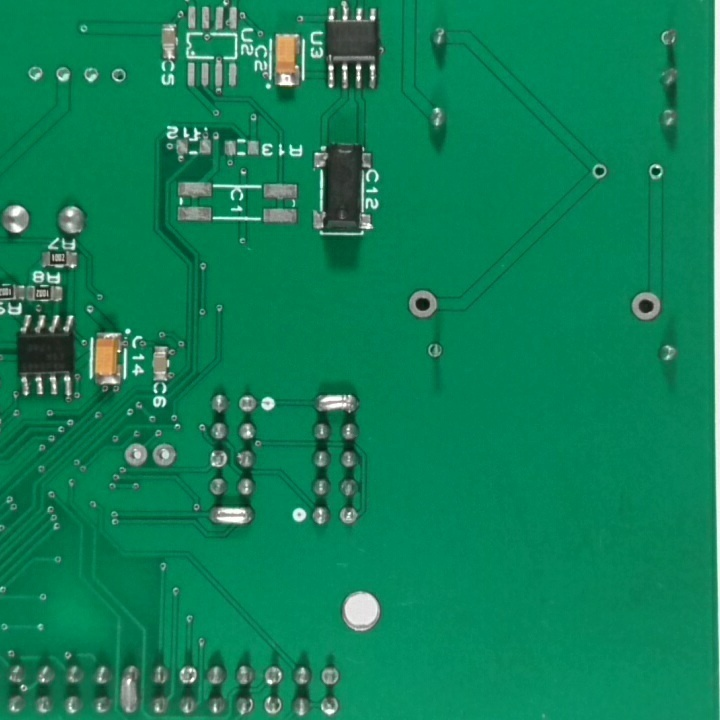F: (404, 287, 439, 322), (629, 290, 664, 324), (148, 440, 180, 472), (121, 439, 149, 472), (259, 692, 286, 719), (175, 663, 201, 688), (659, 25, 681, 53), (52, 63, 76, 88), (316, 695, 341, 719), (23, 61, 46, 87), (587, 158, 610, 183), (336, 504, 359, 529), (422, 339, 445, 363), (646, 160, 667, 186), (207, 448, 230, 470), (236, 394, 259, 415), (81, 65, 101, 87), (109, 67, 129, 87)
P: (116, 656, 142, 718), (204, 501, 259, 529), (308, 389, 362, 416)
